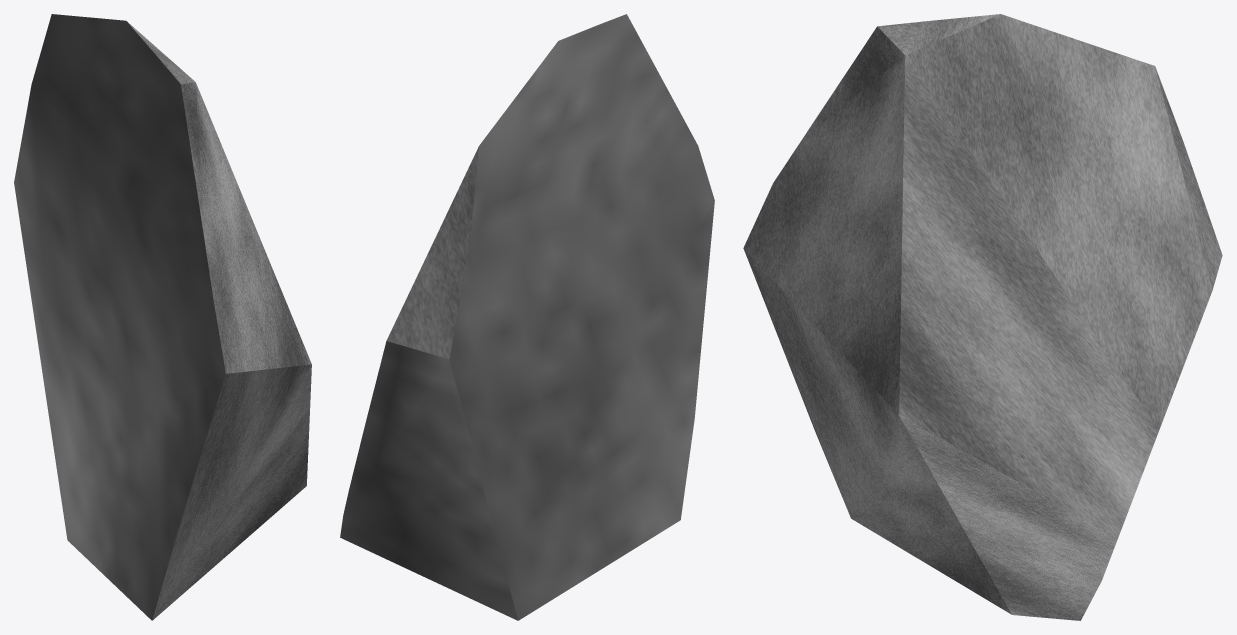
The model's file is leg_1_cell_020.fbx.
3 views of the same model, side by side, from view 1: azimuth 30°, elevation 25°; view 2: azimuth 150°, elevation 25°; view 3: azimuth 270°, elevation 25° (orthographic). The views are drawn at different scales.
Visible parts, largest first — view 1: leg_1_cell.020; view 2: leg_1_cell.020; view 3: leg_1_cell.020.
Boxes of the visible parts, x1,y1,x2,y2 form: leg_1_cell.020: (14,14,311,620); leg_1_cell.020: (340,14,714,620); leg_1_cell.020: (743,14,1222,620).
Bounding box in the file's own units: 9.83 × 22.07 × 17.44.
